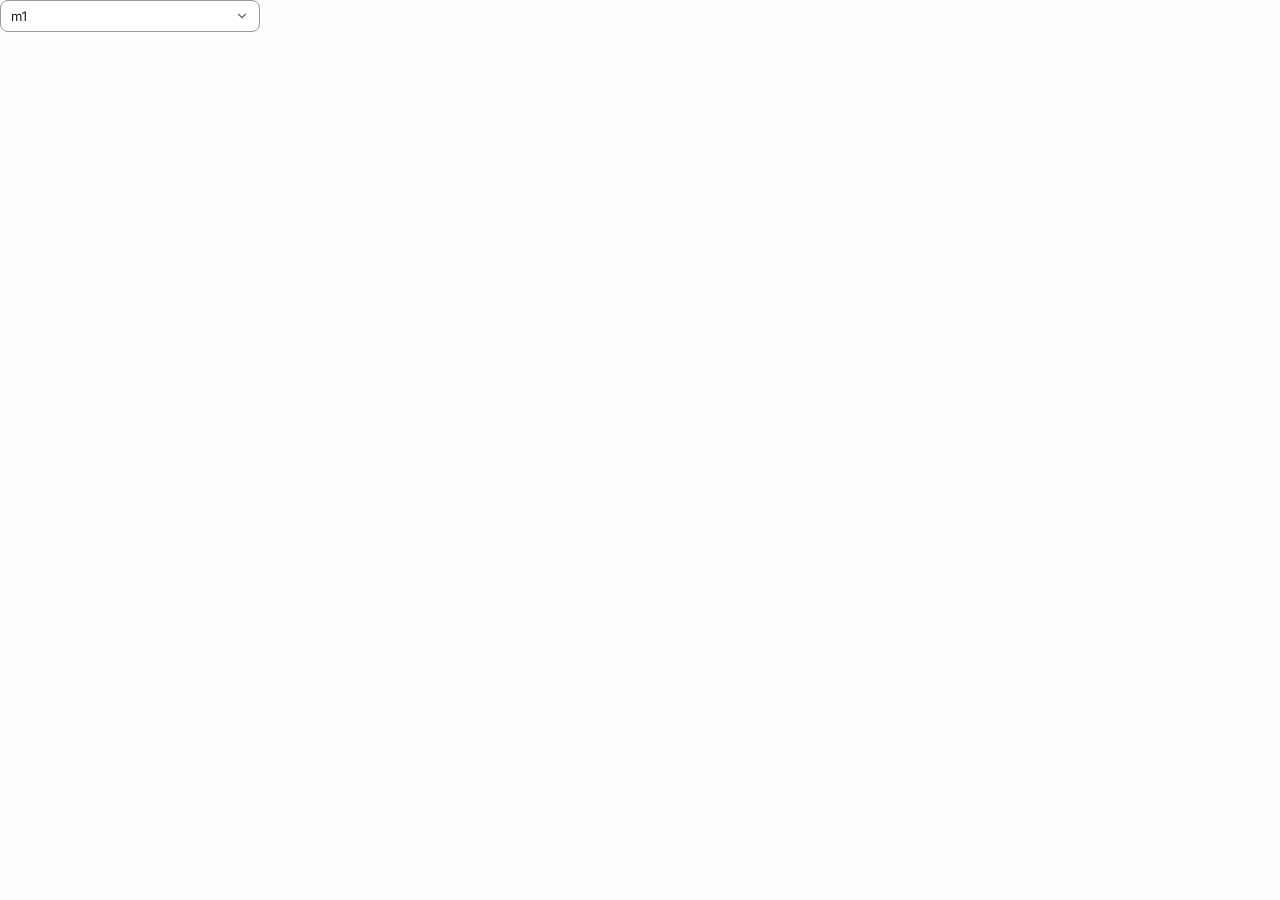
Scenario: keeps a real highlight through the clear row so arrows and Enter always work
Later steps or results of the test are not shown.
Step 1. Click the button named "Primary model: m1" → point(19, 16), box [0, 0, 260, 32]
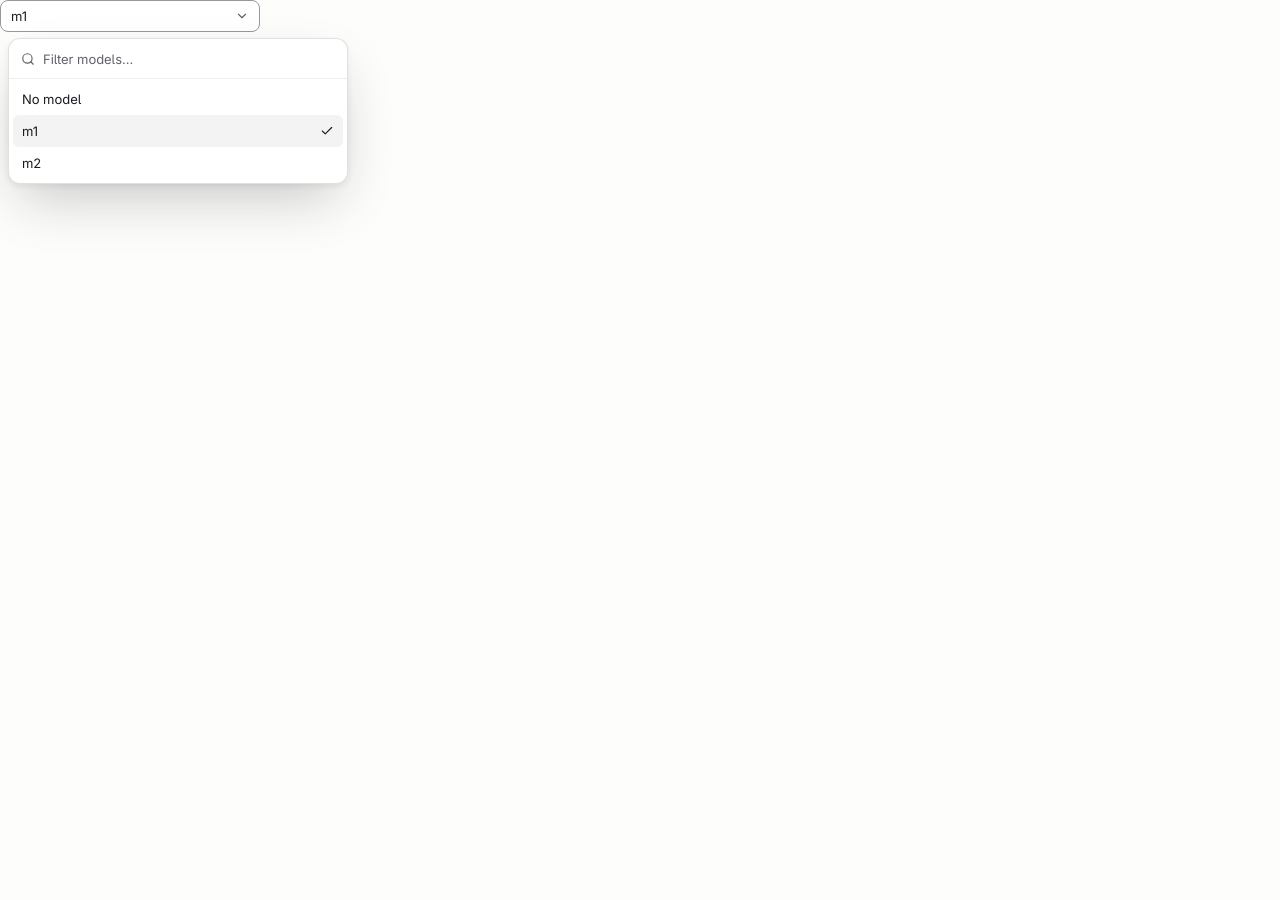
Step 2. Press ArrowUp in the dropdown, box [43, 39, 335, 78]
Expected: the text "No model" is shown, [22, 91, 81, 107]
